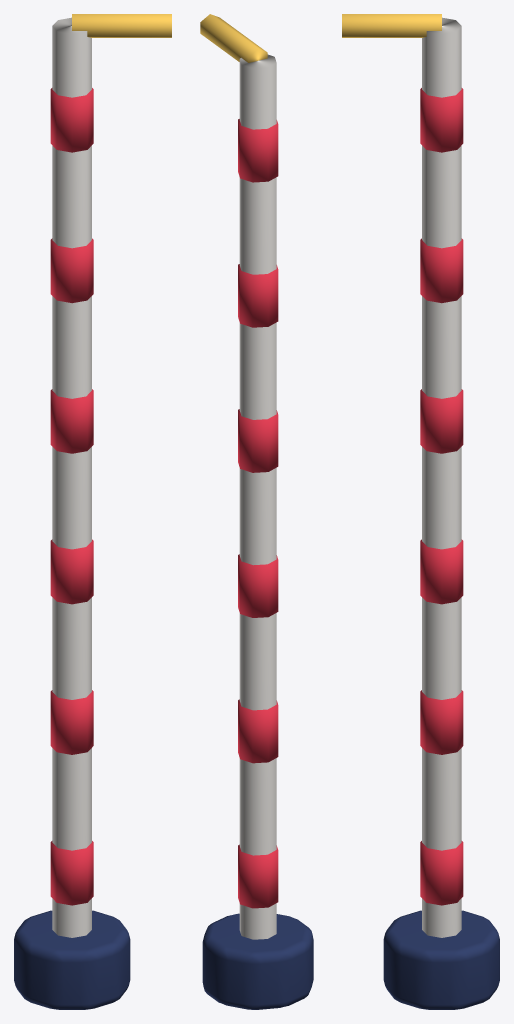
The model's file is sky_pinwheel.glb.
3 renders of one model, left to right at view 1: azimuth 90°, elevation 25°; view 2: azimuth 210°, elevation 25°; view 3: azimuth 270°, elevation 25°, orthographic. The views are drawn at different scales.
Visible parts, largest first — view 1: PinwheelPole; view 2: PinwheelPole; view 3: PinwheelPole.
Part boxes in pixels (box(x1,y1,x2,y2)): PinwheelPole: box(14, 14, 171, 1009); PinwheelPole: box(200, 14, 313, 1009); PinwheelPole: box(342, 14, 499, 1009).
Bounding box in the file's own units: 0.3424 × 3.24 × 0.4746.
